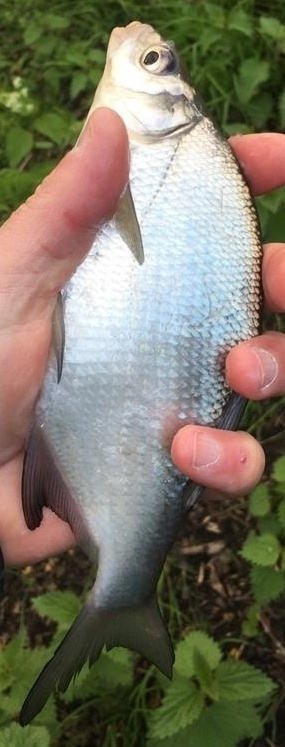Blicca bjoerkna: (20, 20, 265, 727)
